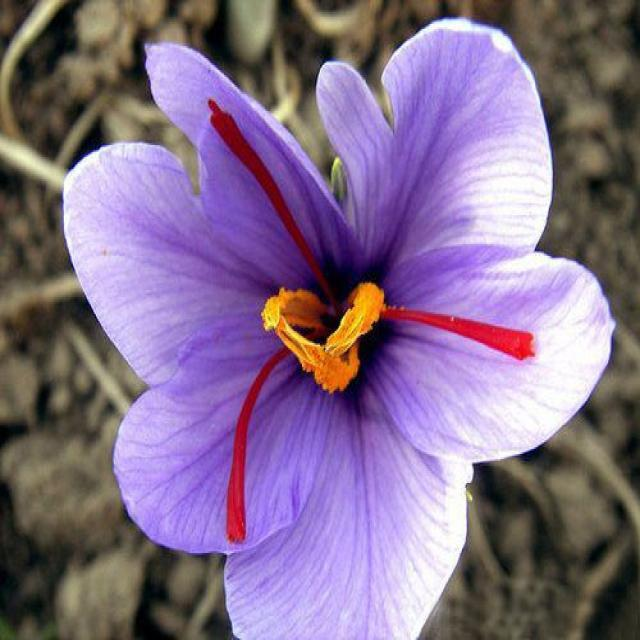Flower: (62, 17, 614, 640)
stigma: (207, 100, 336, 304), (225, 326, 326, 545), (378, 305, 538, 362)
